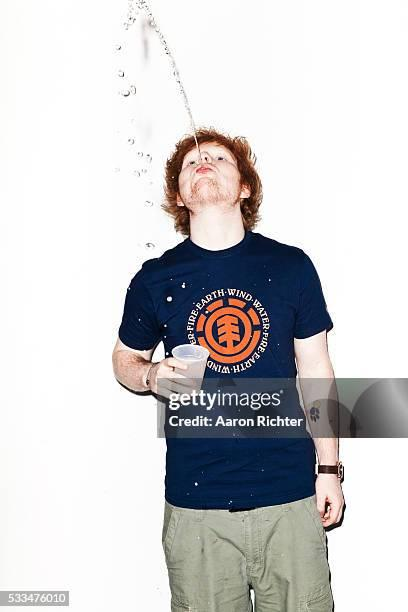Spitting: (150, 45, 327, 283)
